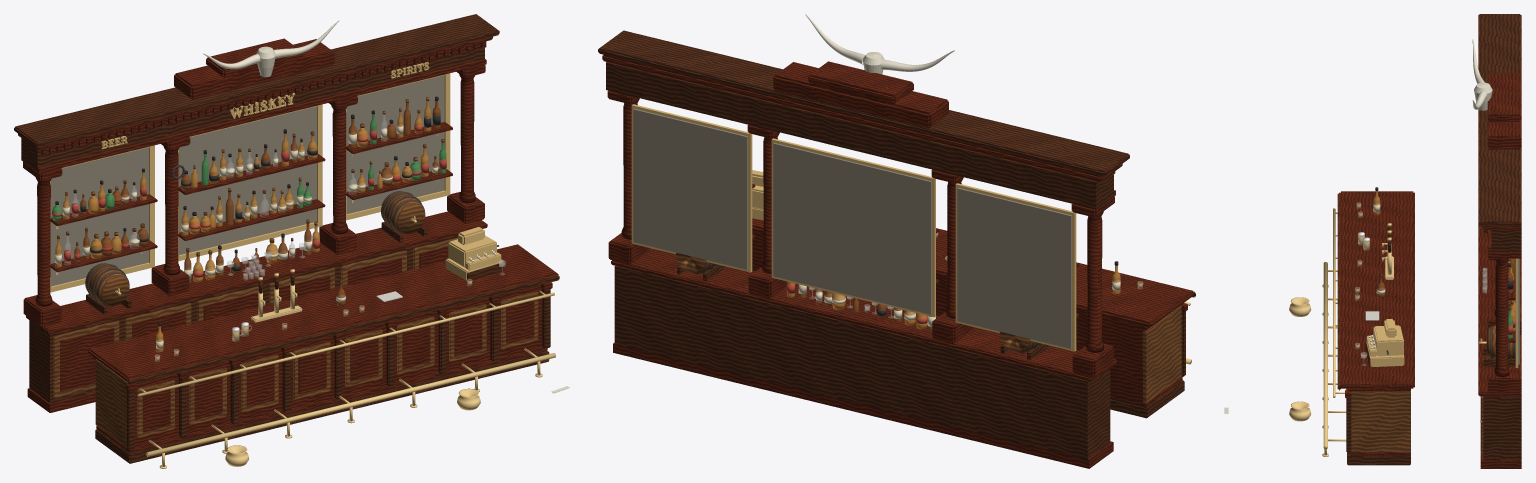
File: BarraLicor.fbx
The picture shows the model from 3 angles, left to right: view 1: azimuth 30°, elevation 25°; view 2: azimuth 150°, elevation 25°; view 3: azimuth 270°, elevation 25°; orthographic projection. The views are drawn at different scales.
Parts seen in each view (by area): view 1: Contrabarra, Mostrador, Tope_Mostrador, Botellas_Contrabarra, Espejo_1, Espejo_0, Espejo_2, Repisas, Canto_Tope, Riel_Pies, Caja_Registradora, Marco_Espejo_1 (+8 smaller); view 2: Contrabarra, Espejo_1, Espejo_0, Espejo_2, Mostrador, Tope_Mostrador, Marco_Espejo_1, Marco_Espejo_0, Marco_Espejo_2, Botellas_Contrabarra; view 3: Contrabarra, Tope_Mostrador, Mostrador, Caja_Registradora, Riel_Pies, Vasos_y_Botellas_Mostrador, Canto_Tope, Riel_Mano, Botellas_Contrabarra, Barril_Whisky_1, Marco_Espejo_2, Grifos_Cerveza (+2 smaller).
Boxes of the visible parts, x1,y1,x2,y2 form: Contrabarra: (14,14,499,412); Mostrador: (95,282,552,463); Tope_Mostrador: (88,244,558,381); Botellas_Contrabarra: (52,96,446,283); Espejo_1: (179,106,316,255); Espejo_0: (51,147,148,286); Espejo_2: (346,75,444,214); Repisas: (50,122,452,274); Canto_Tope: (128,275,559,384); Riel_Pies: (146,353,555,456); Caja_Registradora: (445,227,503,280); Marco_Espejo_1: (178,104,322,261); Contrabarra: (598,30,1129,468); Espejo_1: (773,143,931,314); Espejo_0: (957,187,1071,348); Espejo_2: (633,108,747,269); Mostrador: (752,230,1187,418); Tope_Mostrador: (752,218,1194,327); Marco_Espejo_1: (771,138,935,317); Marco_Espejo_0: (955,183,1076,351); Marco_Espejo_2: (631,104,752,272); Botellas_Contrabarra: (786,281,935,331); Contrabarra: (1478,14,1521,468); Tope_Mostrador: (1339,191,1414,388); Mostrador: (1345,388,1410,465); Caja_Registradora: (1365,319,1404,366); Riel_Pies: (1323,262,1327,449); Vasos_y_Botellas_Mostrador: (1355,187,1385,365); Canto_Tope: (1337,193,1340,390); Riel_Mano: (1333,208,1335,397); Botellas_Contrabarra: (1507,258,1515,338); Barril_Whisky_1: (1479,325,1515,359); Marco_Espejo_2: (1515,258,1518,367); Grifos_Cerveza: (1382,223,1393,279).
Size of the model in its own units: 5.8 by 3.9 by 3.49.
